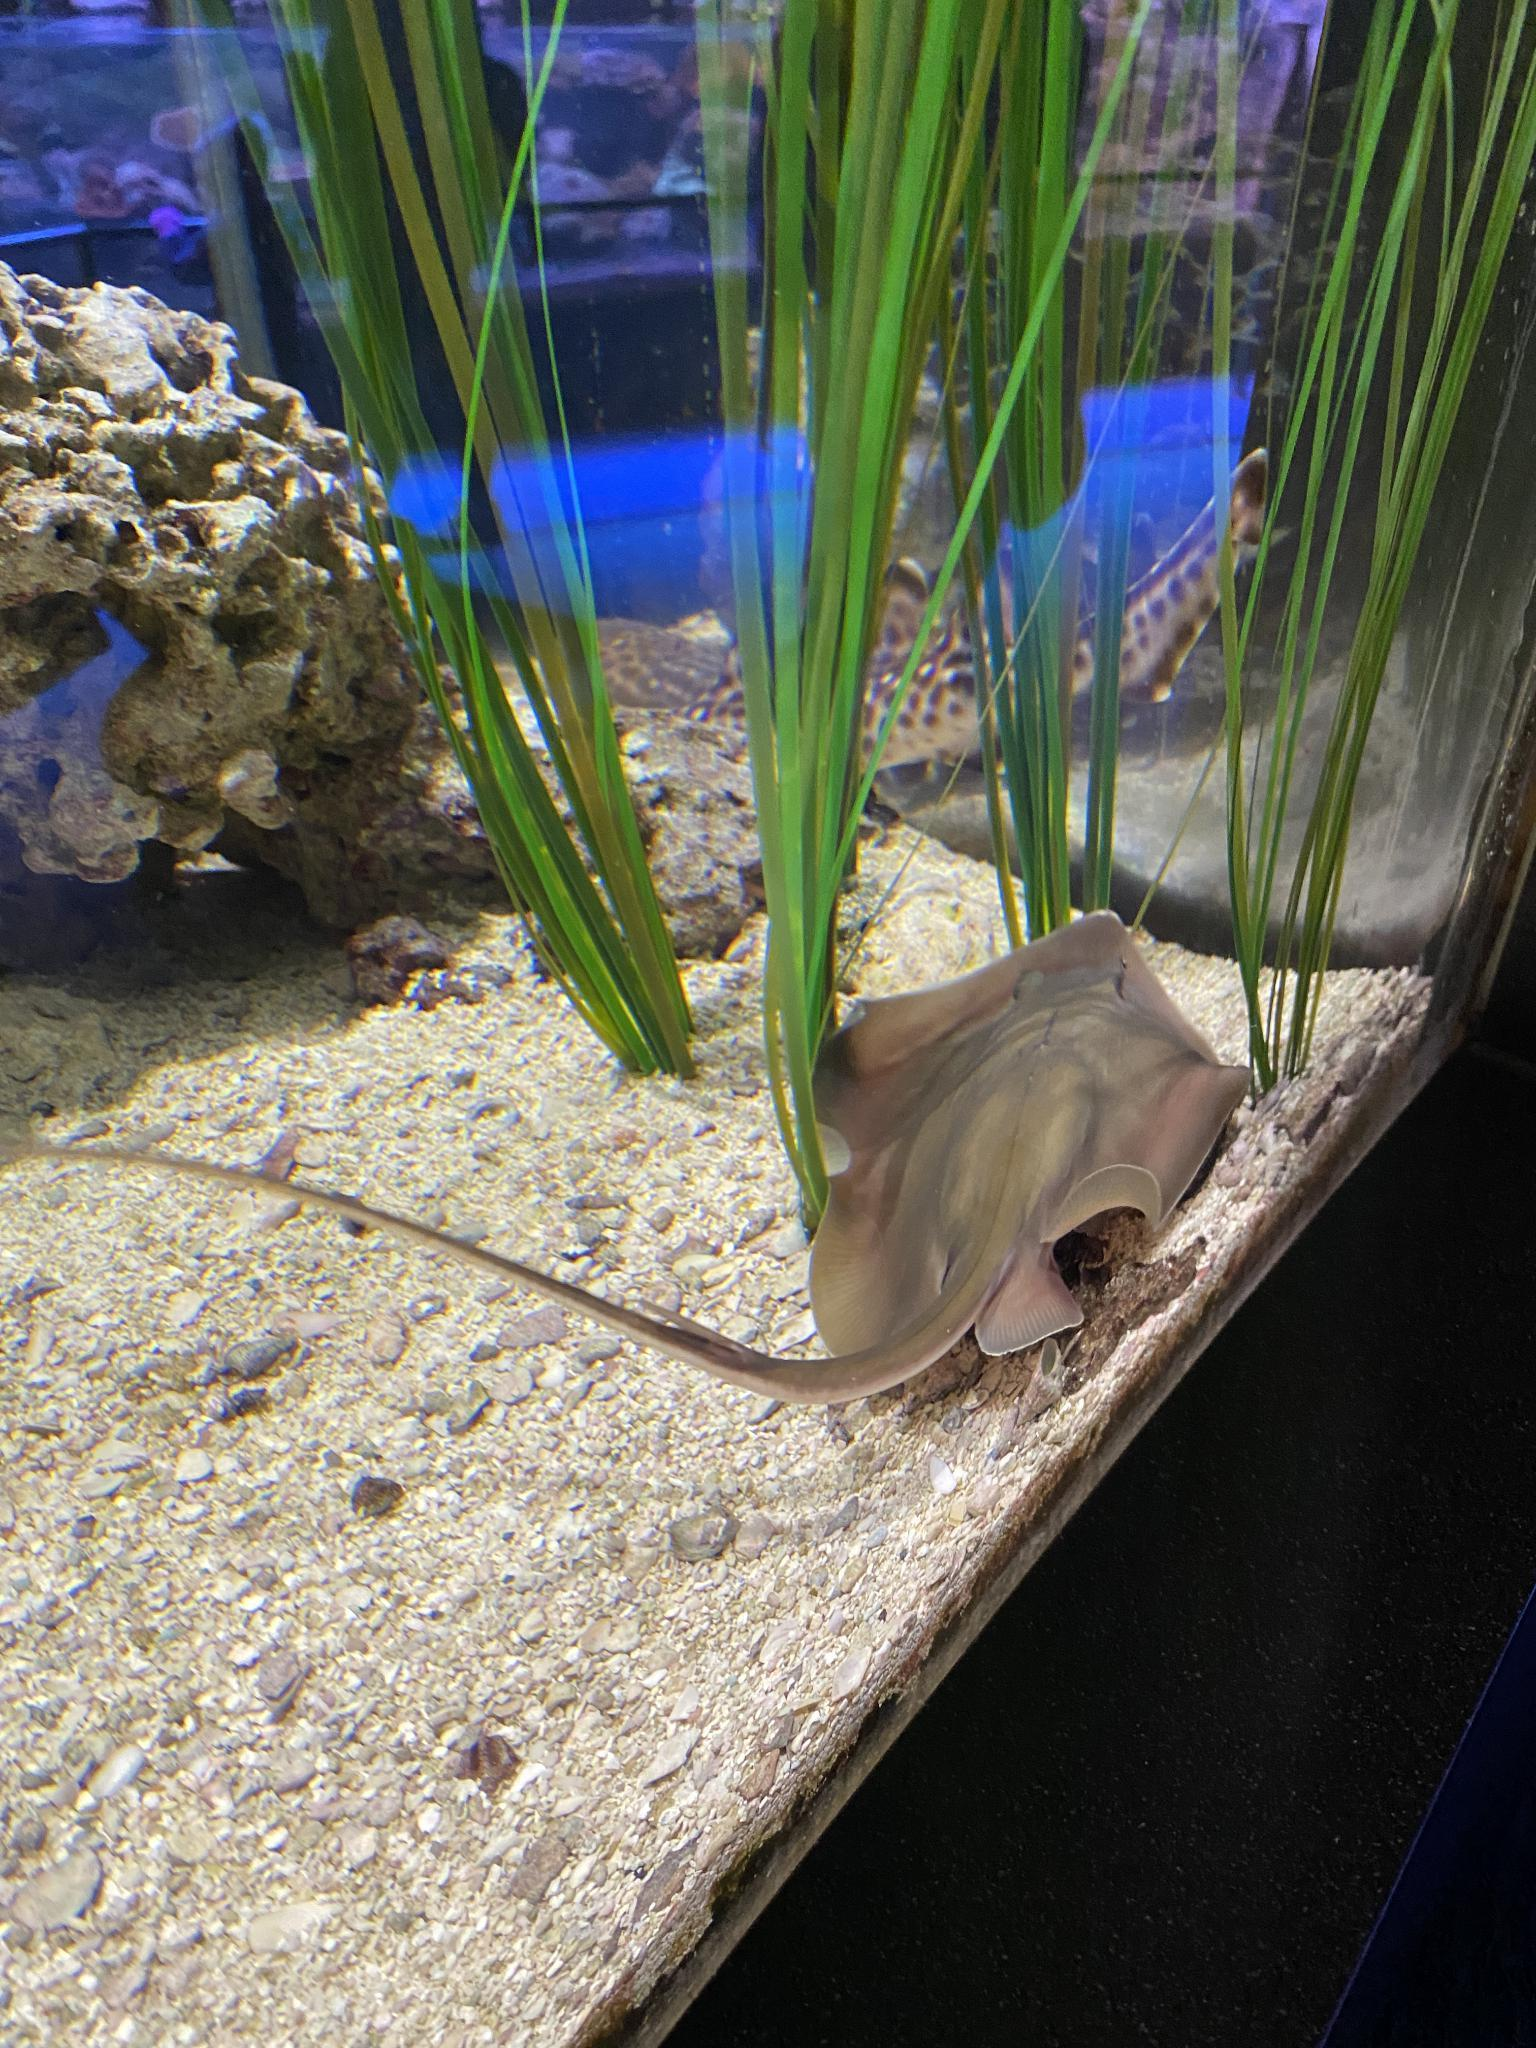stingray: (795, 913, 1257, 1432)
